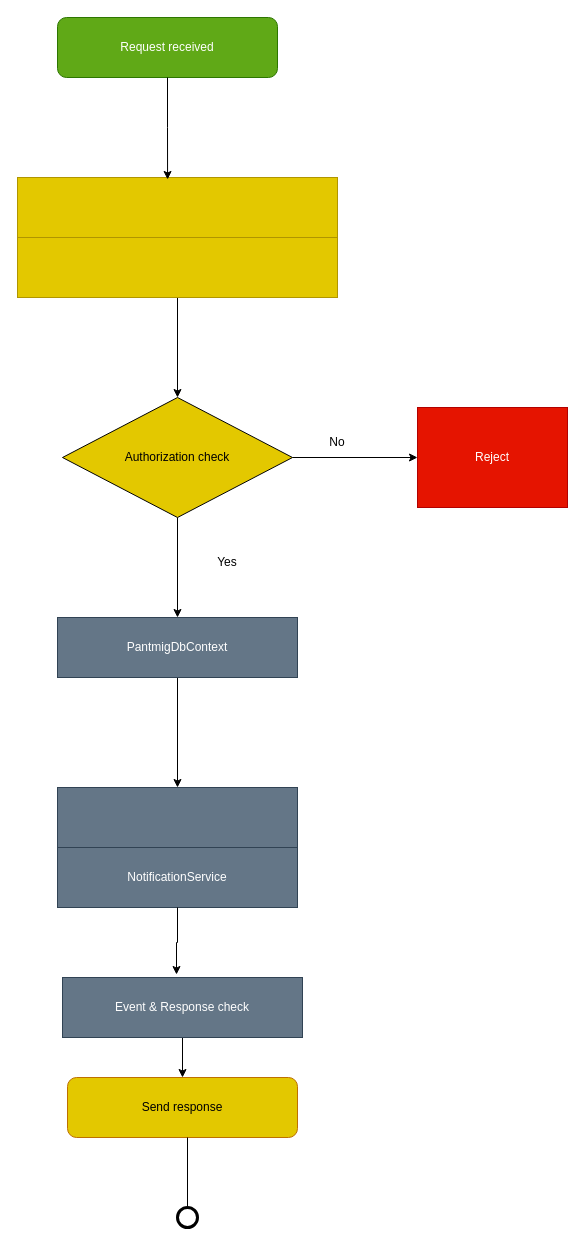
The diagram is 585 pixels wide and 1245 high, and some of its shapes have lost their labels. The shapes that lost their labels are listed below. From the top down, each one's box as (x1, y1, x2, y2) in pixels, then its label:
(16, 176, 338, 238): RecycleListingEndpoints
(16, 236, 338, 298): RecycleListingValidationService
(56, 786, 298, 848): Notification Created
